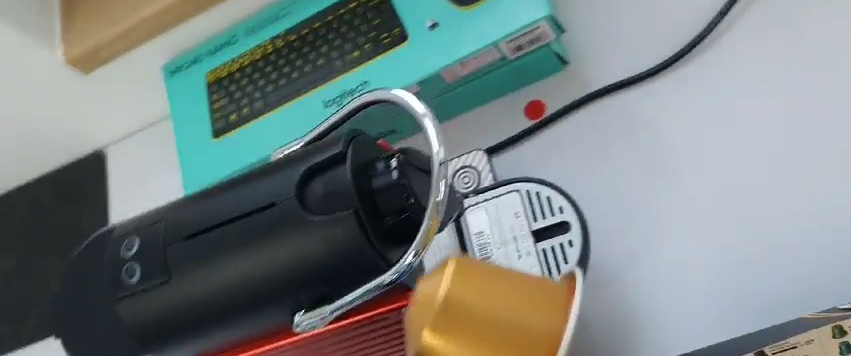capsule_8: (400, 249, 584, 356)
